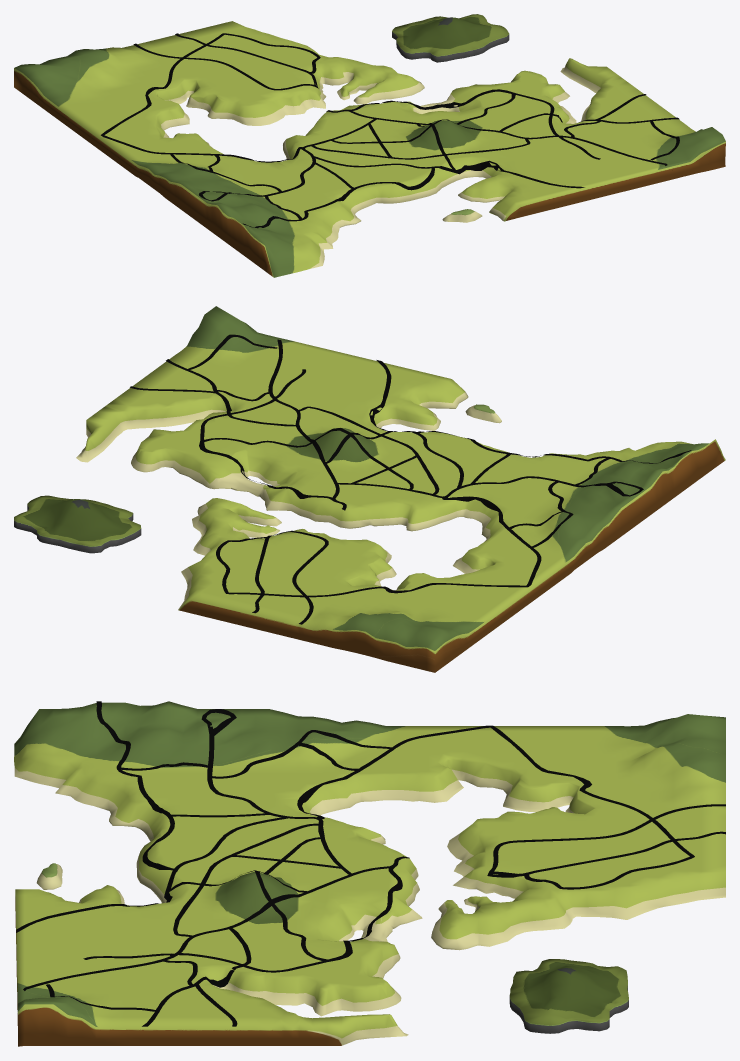
The model's file is worldmap_final.fbx.
The picture shows the model from 3 angles, top to bottom: view 1: azimuth 30°, elevation 25°; view 2: azimuth 150°, elevation 25°; view 3: azimuth 270°, elevation 25°; orthographic projection. The views are drawn at different scales.
Visible parts, largest first — view 1: polySurface5, polySurface3; view 2: polySurface5, polySurface3; view 3: polySurface5, polySurface3.
Boxes of the visible parts, x1,y1,x2,y2 form: polySurface5: (14,14,725,277); polySurface3: (101,33,679,228); polySurface5: (14,306,725,672); polySurface3: (130,334,691,624); polySurface5: (14,701,725,1046); polySurface3: (16,701,725,1026).
Size of the model in its own units: 307 by 22.71 by 305.
